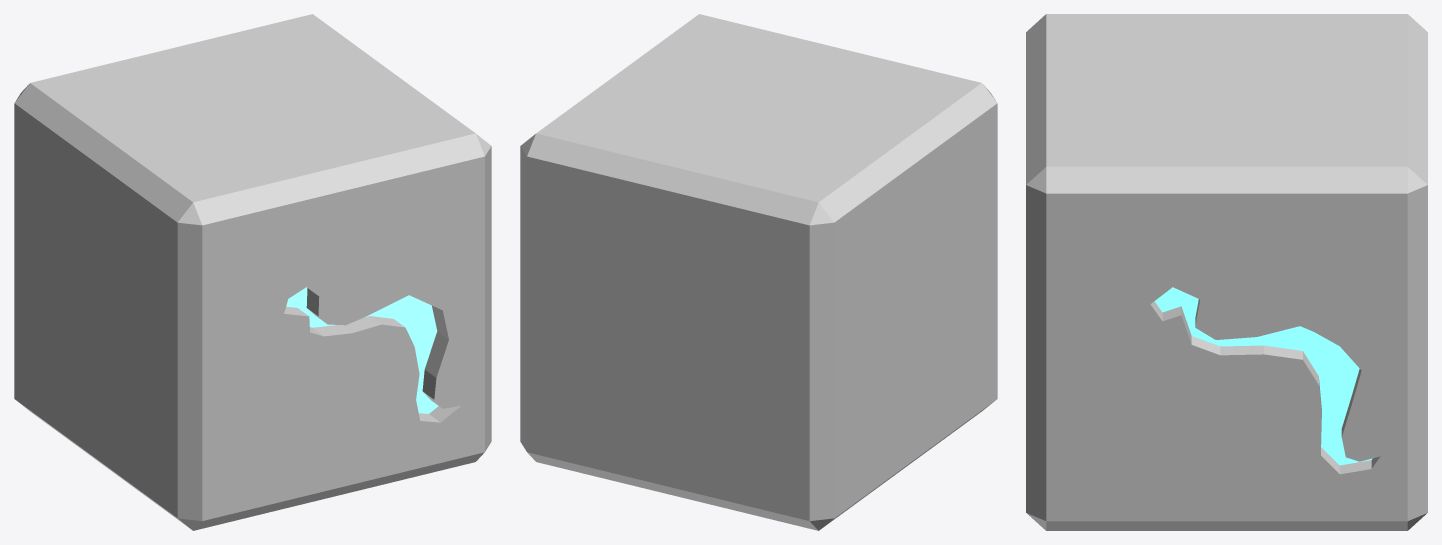
The model's file is Kupyilan.fbx.
3 renders of one model, left to right at view 1: azimuth 30°, elevation 25°; view 2: azimuth 150°, elevation 25°; view 3: azimuth 270°, elevation 25°, orthographic. The views are drawn at different scales.
Parts seen in each view (by area): view 1: Cube.012; view 2: Cube.012; view 3: Cube.012.
Boxes of the visible parts, bbox=[...] form: Cube.012: bbox=[14, 14, 491, 530]; Cube.012: bbox=[520, 14, 997, 530]; Cube.012: bbox=[1026, 14, 1427, 530].
Size of the model in its own units: 119 by 119 by 119.
